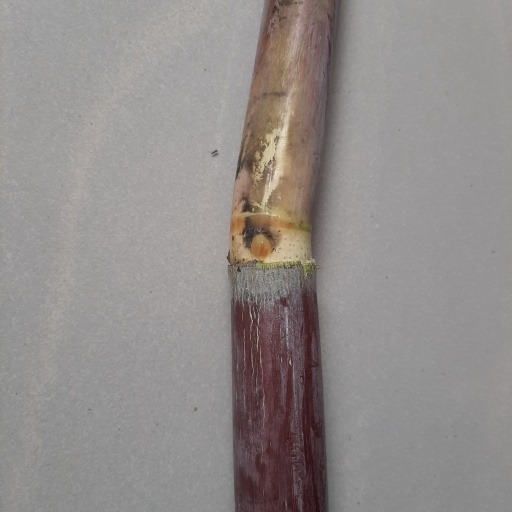Bud: (248, 231, 276, 261)
